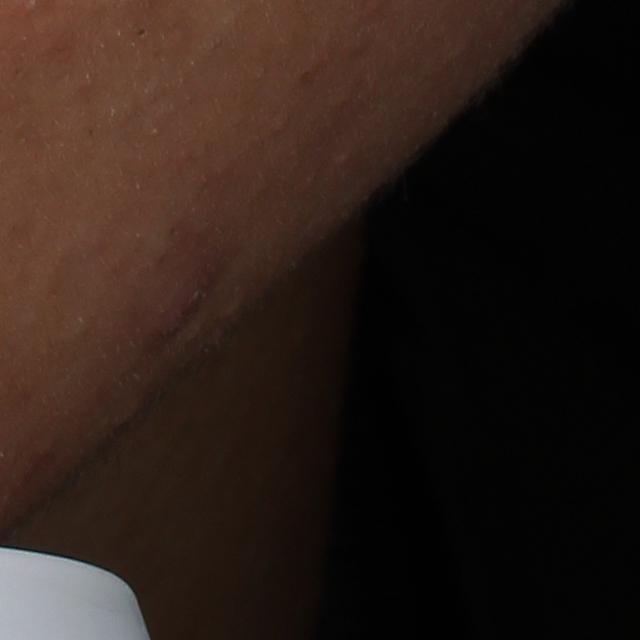papule: (135, 253, 210, 367)
